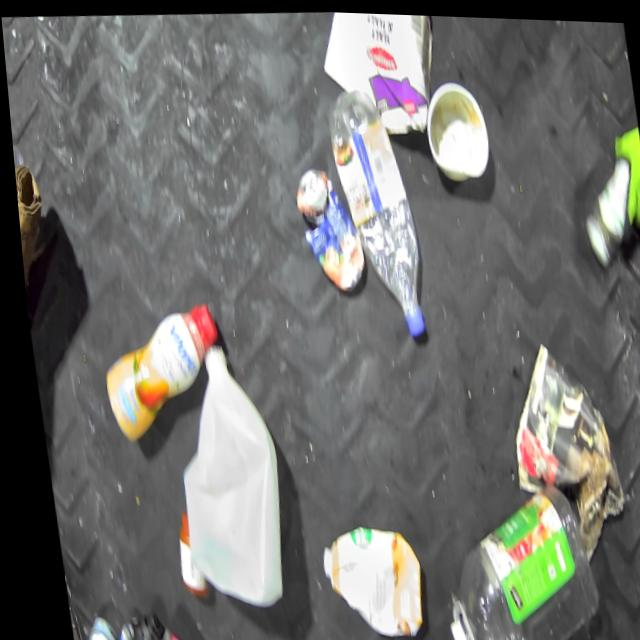can: (289, 159, 359, 287), (68, 610, 107, 640)
milk_jug: (158, 359, 286, 611)
plastic_bottle: (418, 484, 597, 640), (321, 79, 431, 329)
